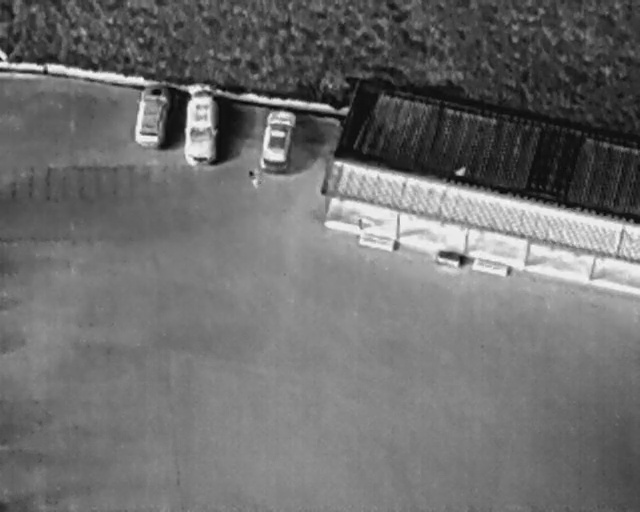Car: (257, 107, 299, 175), (132, 79, 172, 149), (185, 86, 216, 168)
Person: (249, 168, 257, 186)
